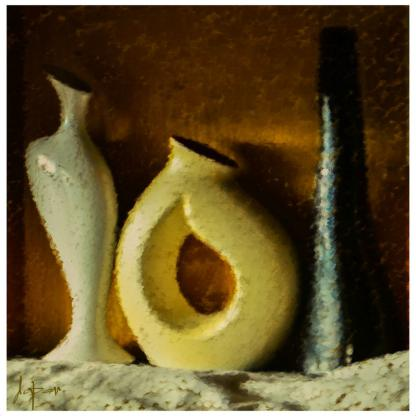vase: (114, 135, 308, 374), (22, 62, 119, 364), (308, 26, 368, 376)
